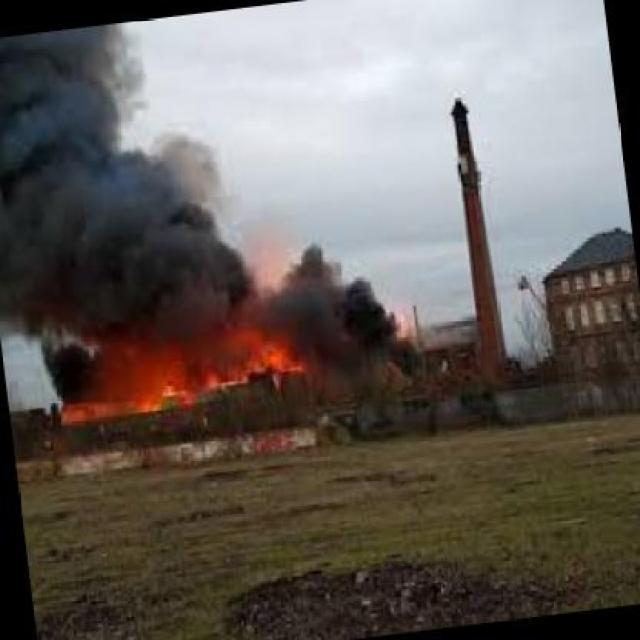Fire: (78, 340, 306, 433)
Smoke: (0, 38, 247, 327), (282, 252, 438, 395)
